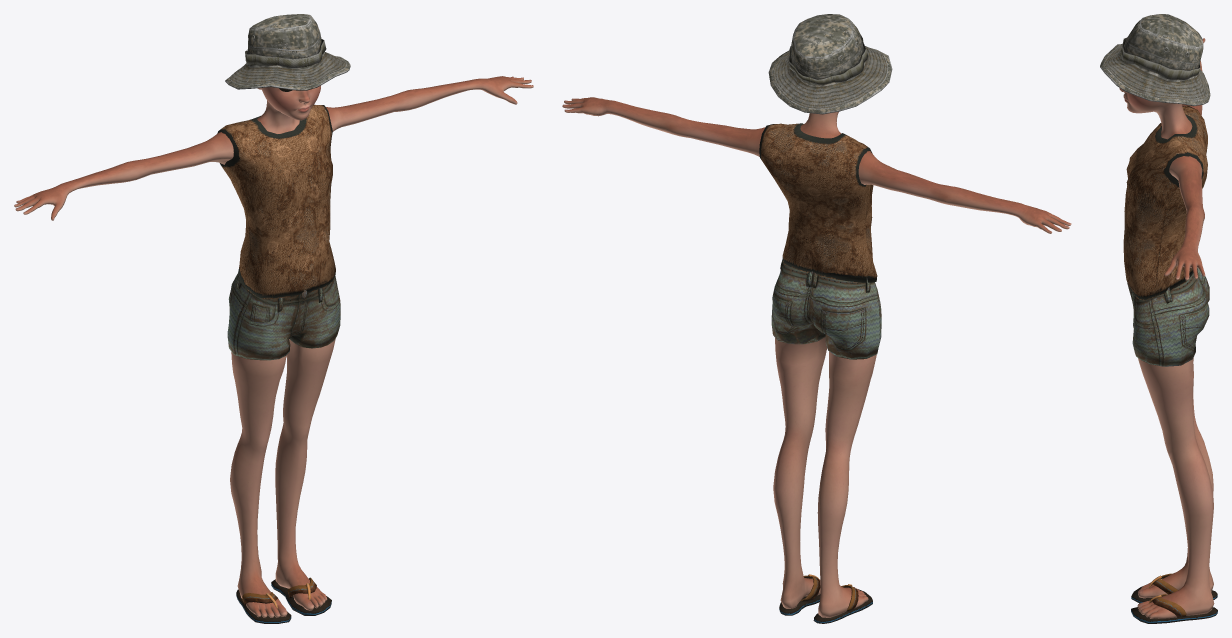
File: Character.obj
3 views of the same model, side by side, from view 1: azimuth 30°, elevation 25°; view 2: azimuth 150°, elevation 25°; view 3: azimuth 270°, elevation 25° (orthographic). The views are drawn at different scales.
Parts seen in each view (by area): view 1: Body, Tops, Bottoms, Hats, Shoes; view 2: Body, Tops, Hats, Bottoms, Shoes; view 3: Body, Tops, Hats, Bottoms, Shoes.
Boxes of the visible parts, x1=… form: Body: x1=14, y1=76, x2=533, y2=617; Tops: x1=217, y1=104, x2=335, y2=299; Bottoms: x1=227, y1=273, x2=340, y2=360; Hats: x1=225, y1=14, x2=350, y2=90; Shoes: x1=236, y1=577, x2=331, y2=623; Body: x1=562, y1=97, x2=1071, y2=617; Tops: x1=759, y1=123, x2=877, y2=282; Hats: x1=768, y1=14, x2=892, y2=114; Bottoms: x1=771, y1=259, x2=881, y2=359; Shoes: x1=779, y1=574, x2=872, y2=623; Body: x1=1119, y1=38, x2=1214, y2=618; Tops: x1=1123, y1=105, x2=1207, y2=300; Hats: x1=1100, y1=14, x2=1210, y2=106; Bottoms: x1=1127, y1=267, x2=1209, y2=366; Shoes: x1=1131, y1=573, x2=1217, y2=623.
Bounding box in the file's own units: 153 × 168 × 30.59.
5 materials, 5 textured.
